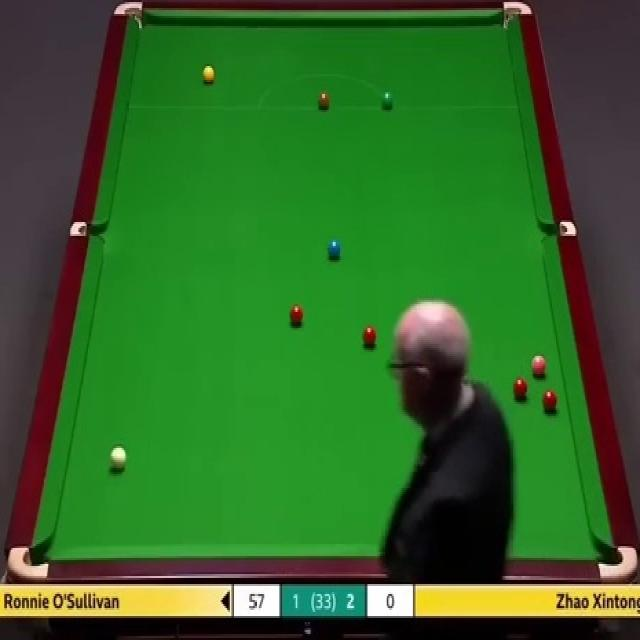blue-ball: (328, 236, 341, 262)
brown-ball: (317, 91, 331, 109)
green-ball: (380, 88, 395, 110)
pink-ball: (530, 356, 549, 376)
red-ball: (513, 376, 530, 404), (362, 324, 377, 350), (542, 392, 558, 414), (289, 303, 303, 324)
white-ball: (112, 446, 126, 473)
yellow-ball: (203, 66, 215, 85)
